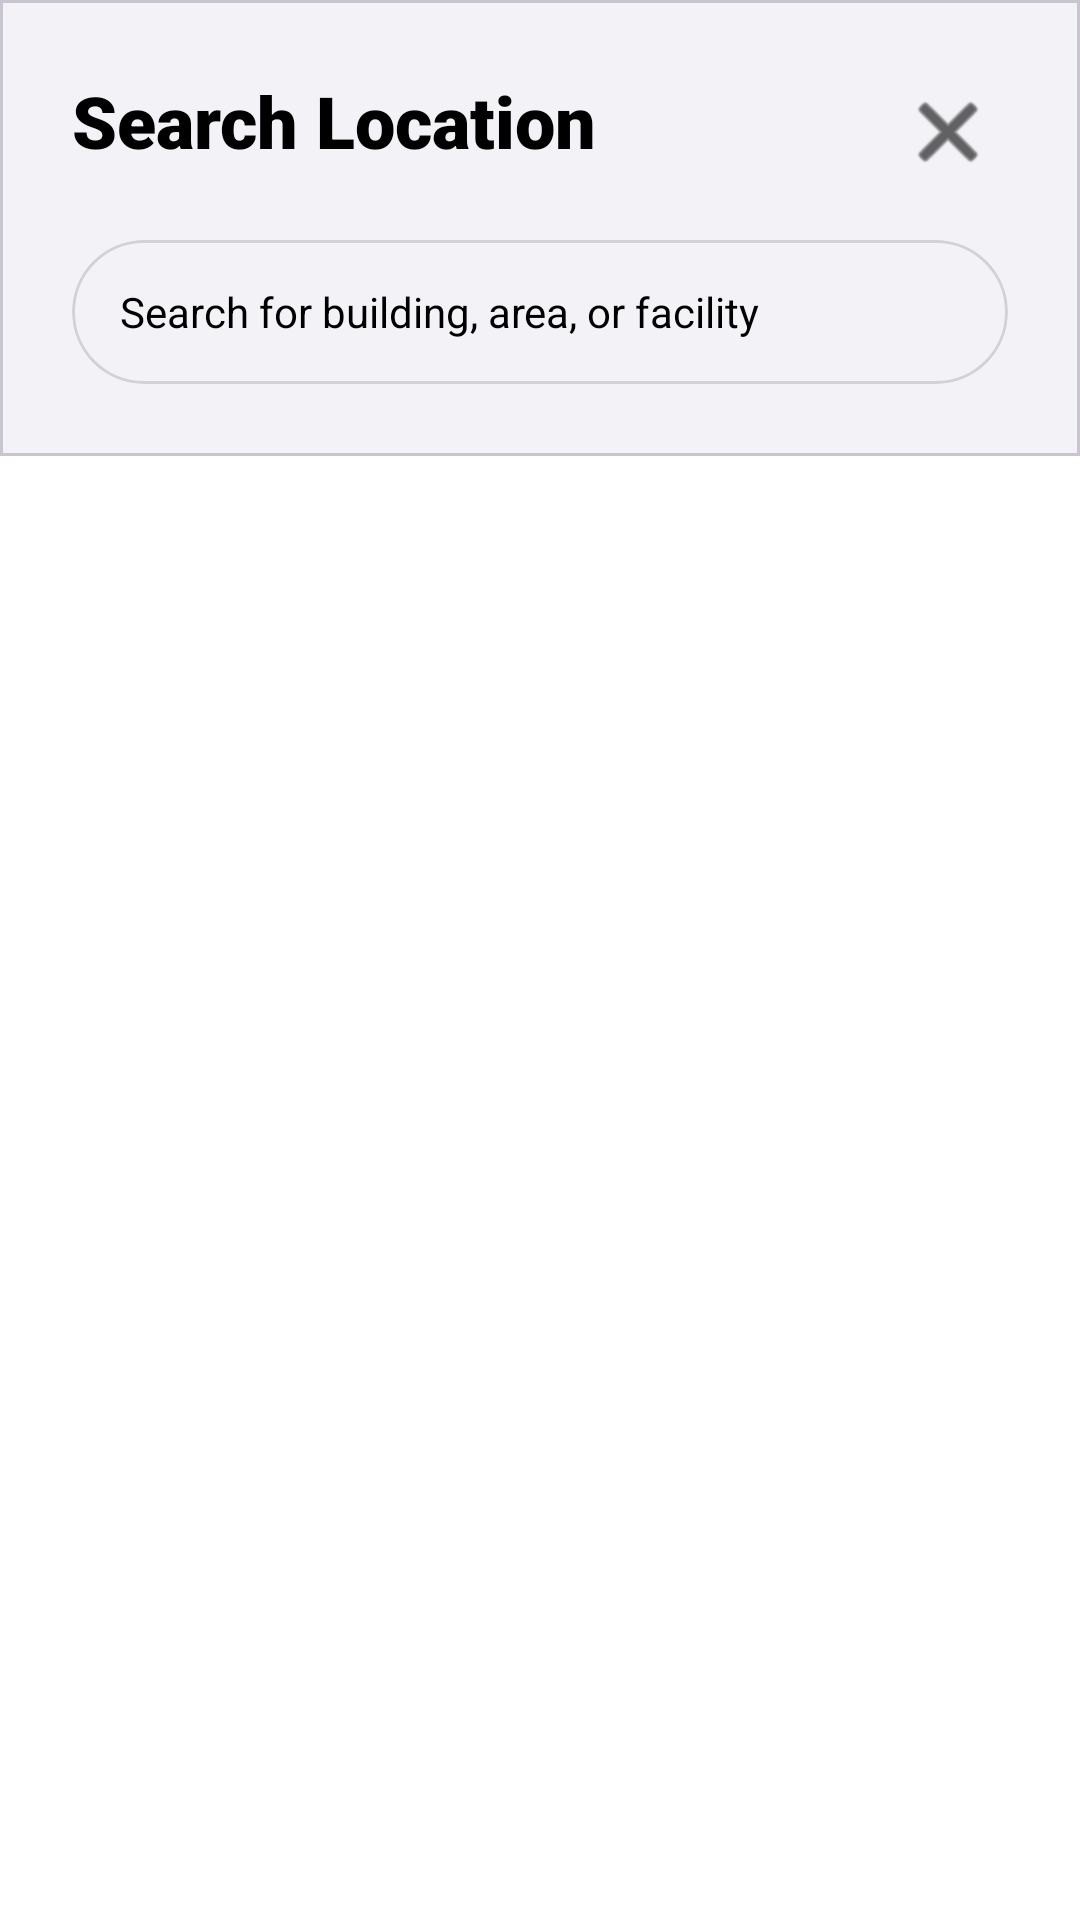

Named icons in this screenshot (1080w x 1920h) and their bounding boxes, rect(x1, y1, x2, y2):
Close: rect(918, 102, 978, 162)
